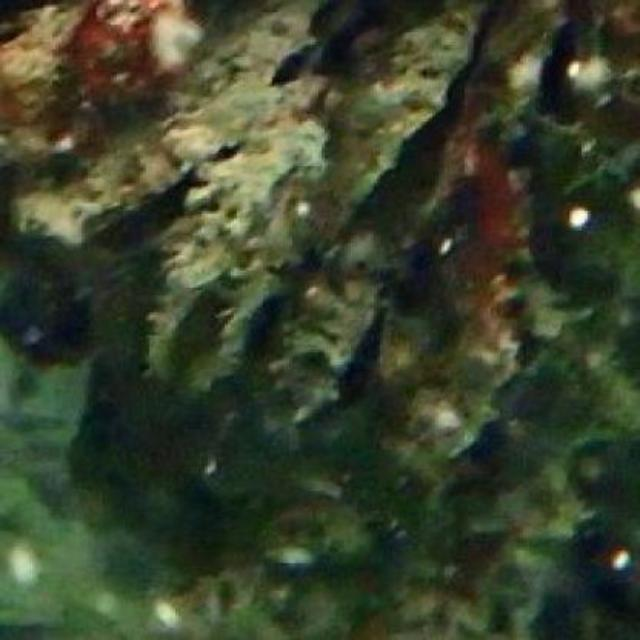Oyster-Closed: (13, 0, 344, 244)
Oyster-Open: (149, 116, 319, 393), (319, 0, 490, 265), (395, 285, 539, 478), (278, 256, 405, 440), (519, 0, 580, 149)
